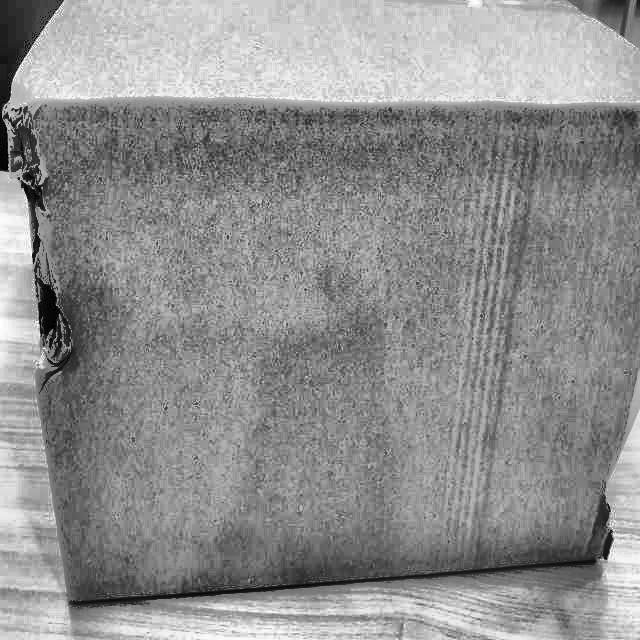box: (4, 0, 639, 613)
hole: (9, 116, 79, 384)
